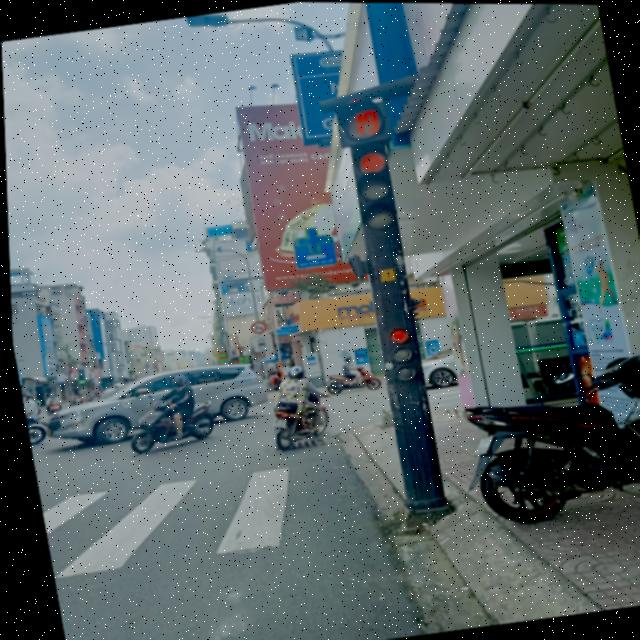Red: (346, 137, 404, 241), (370, 313, 425, 392)
